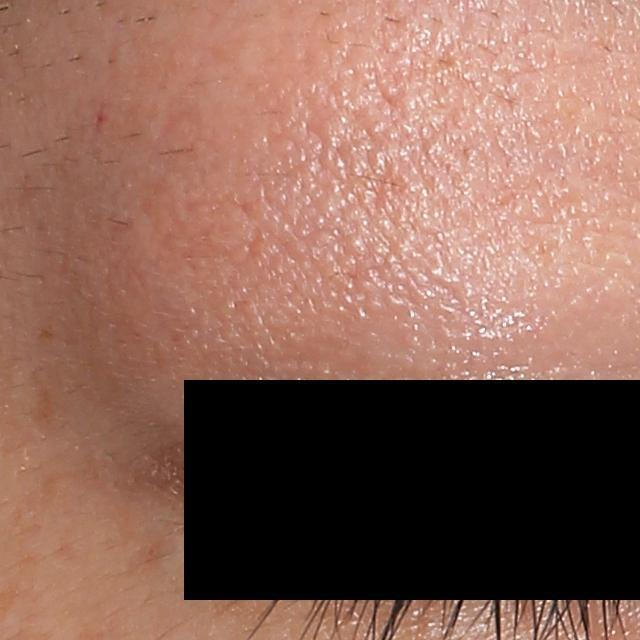melasma: (119, 523, 180, 584), (23, 376, 59, 448)
